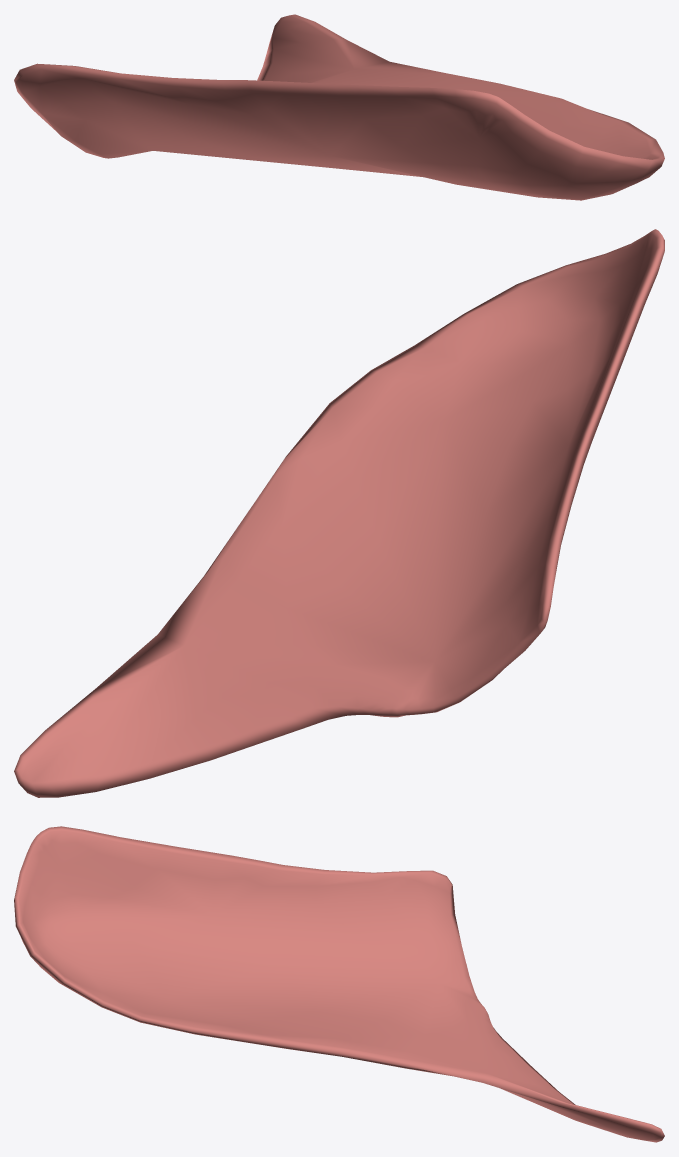
The picture shows the model from 3 angles, top to bottom: view 1: azimuth 30°, elevation 25°; view 2: azimuth 150°, elevation 25°; view 3: azimuth 270°, elevation 25°; orthographic projection. The views are drawn at different scales.
Parts seen in each view (by area): view 1: ZA_e24d9b54464602bc; view 2: ZA_e24d9b54464602bc; view 3: ZA_e24d9b54464602bc.
Boxes of the visible parts, bbox=[...] form: ZA_e24d9b54464602bc: bbox=[14, 14, 664, 200]; ZA_e24d9b54464602bc: bbox=[14, 229, 664, 797]; ZA_e24d9b54464602bc: bbox=[14, 826, 664, 1142].
Size of the model in its own units: 0.0174 by 0.0135 by 0.0334.
